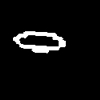chain: (13, 31, 65, 52)
